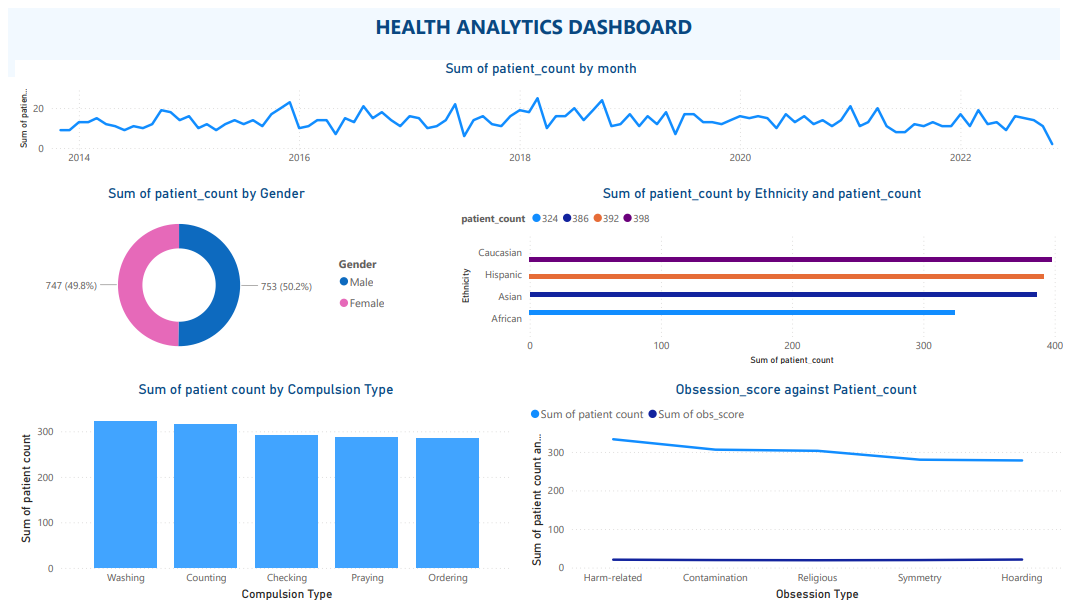

The dashboard page shown, as its layout file describes it:
{"tool":"powerbi","page":{"name":"Page 1","canvas":[1280,720],"ordinal":0},"visuals":[{"type":"textbox","box":[0,0,1270.9,82.7],"z":0},{"type":"lineChart","fields":{"Y":["Sum(diagnosis.patient_count)"],"Category":["diagnosis.month"]},"box":[9,63.2,1270.9,136.9],"z":1000},{"type":"donutChart","fields":{"Category":["gender.Gender"],"Y":["Sum(gender.patient_count)"]},"box":[9,213.6,461.7,221.1],"z":2000},{"type":"clusteredBarChart","fields":{"Category":["ethnicity.Ethnicity"],"Y":["Sum(ethnicity.patient_count)"],"Series":["ethnicity.patient_count"]},"box":[543,213.6,737,221.1],"z":3000},{"type":"columnChart","fields":{"Category":["comp_type.Compulsion  Type"],"Y":["Sum(comp_type.patient count)"]},"box":[9,449.7,606.1,270.7],"z":4000},{"type":"lineChart","title":"Obsession_score against Patient_count","fields":{"Category":["obs_type.Obsession Type"],"Y":["Sum(obs_type.patient count)","Sum(obs_type.obs_score)"]},"box":[626,450,654,270],"z":5000}]}

Visuals, with their boxes in screenshot pixels (x1, y1, x2, y2), scaled from the page's 1280x720 canvas onto the 1076x614 screenshot:
textbox: detection(0, 0, 1068, 71)
lineChart - Sum(diagnosis.patient_count) x diagnosis.month: detection(8, 54, 1075, 171)
donutChart - gender.Gender x Sum(gender.patient_count): detection(8, 182, 396, 371)
clusteredBarChart - ethnicity.Ethnicity x Sum(ethnicity.patient_count): detection(456, 182, 1075, 371)
columnChart - comp_type.Compulsion  Type x Sum(comp_type.patient count): detection(8, 383, 517, 613)
"Obsession_score against Patient_count" lineChart: detection(526, 384, 1075, 613)
